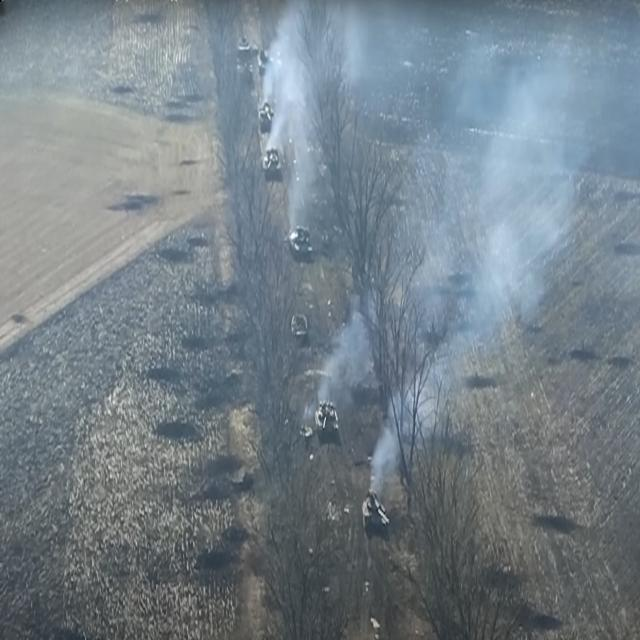AIFV: (291, 309, 311, 348), (236, 33, 254, 65), (238, 59, 256, 88), (551, 592, 552, 594)
MBT: (276, 222, 316, 268), (364, 488, 392, 536), (316, 397, 342, 441), (262, 145, 284, 184), (259, 103, 278, 138), (258, 49, 276, 84)
